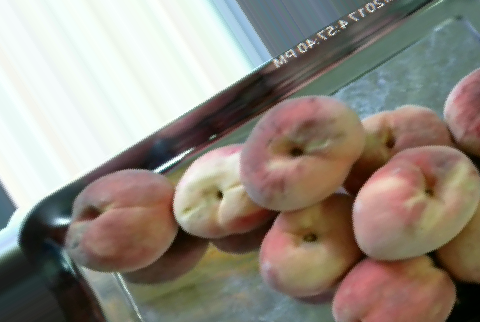Peach: (351, 141, 480, 262), (238, 98, 367, 208), (69, 168, 176, 271), (257, 195, 361, 299), (171, 147, 268, 239), (330, 253, 457, 321)
